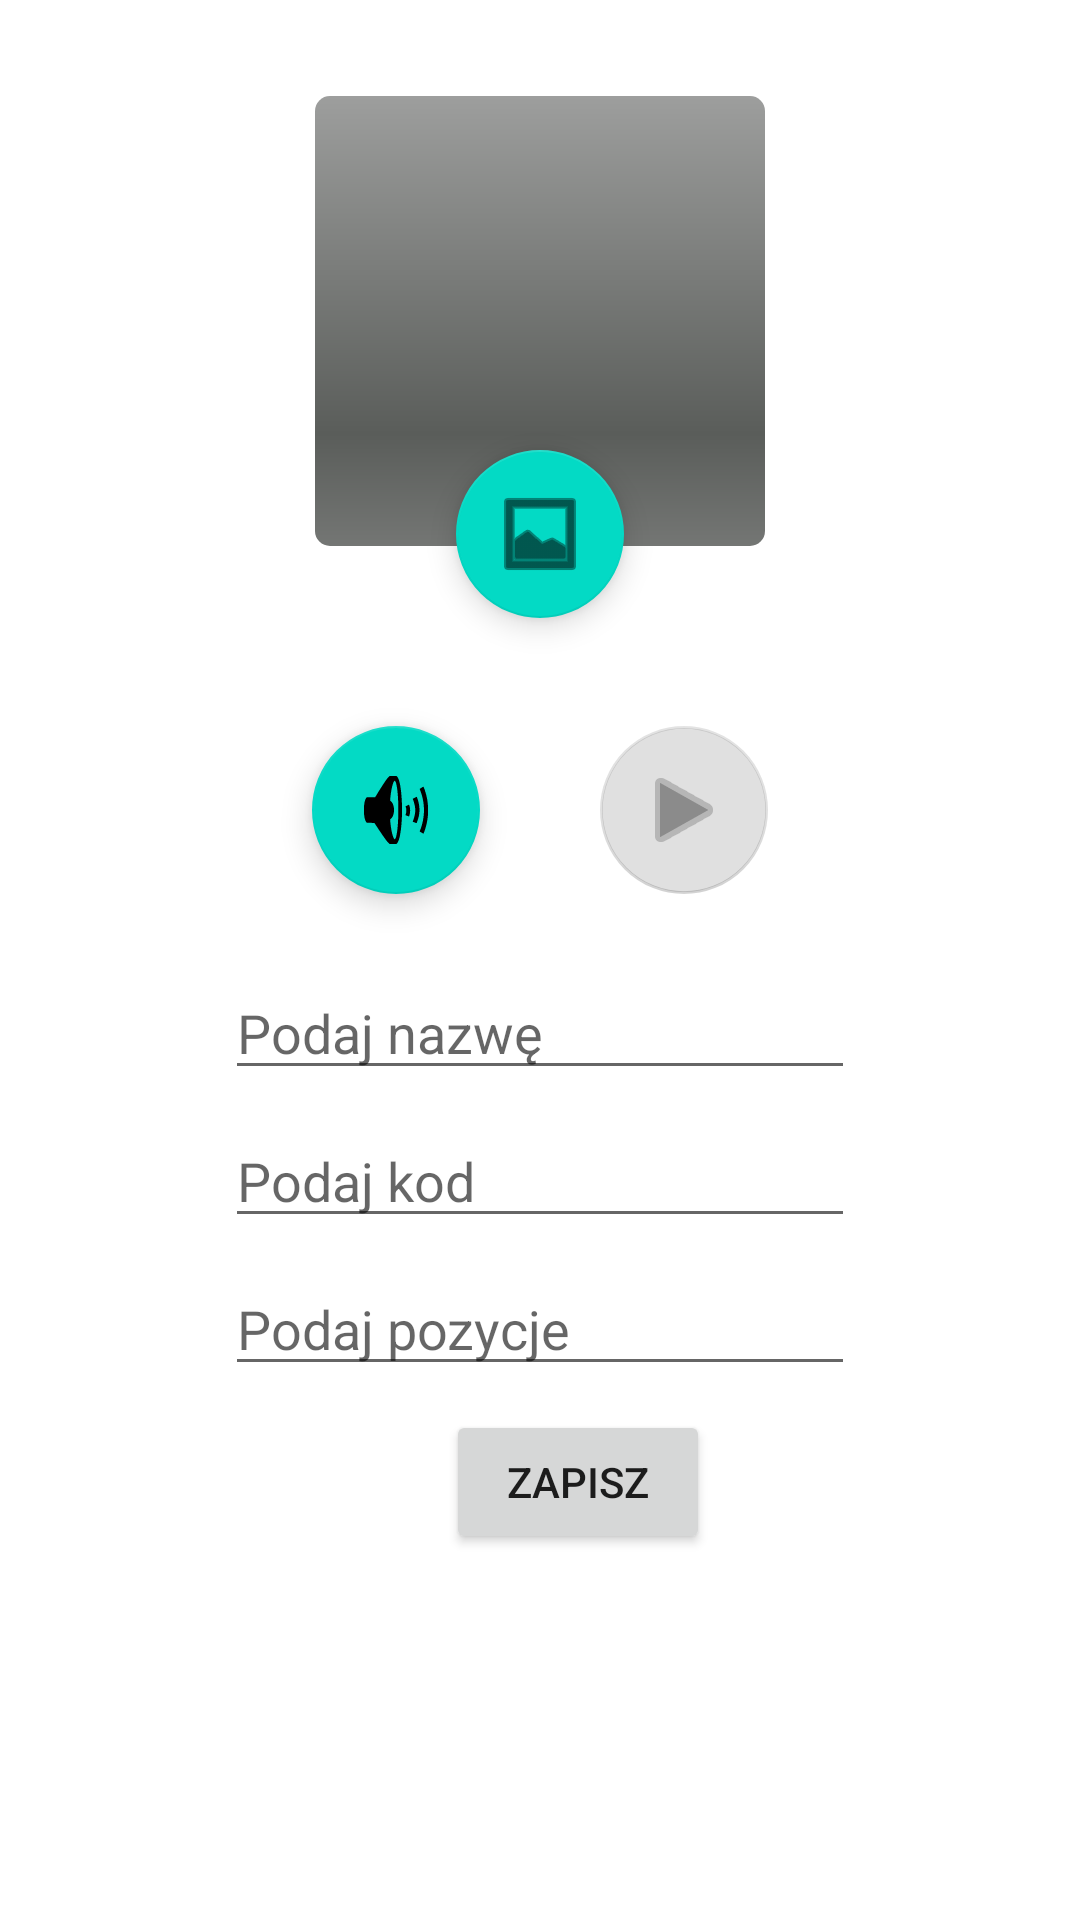

Screen size 1080x1920. Icon name, then its center in pixels as point (x, y):
play: point (684, 810)
